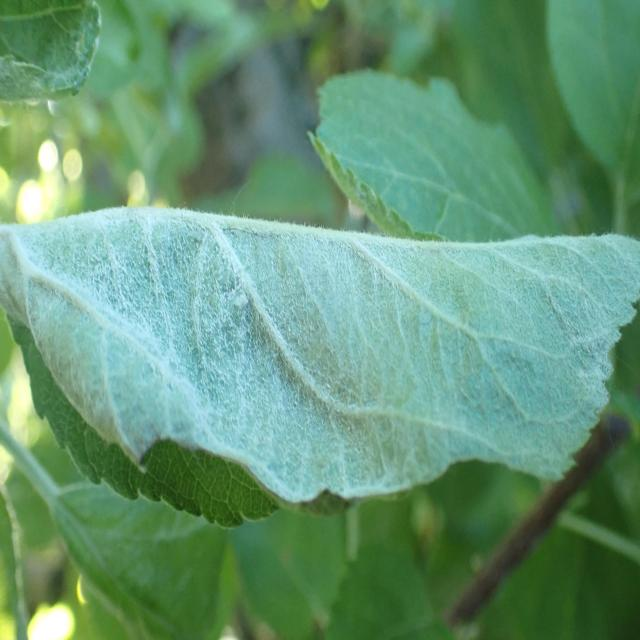Powdery_mildew: (0, 186, 640, 520)
